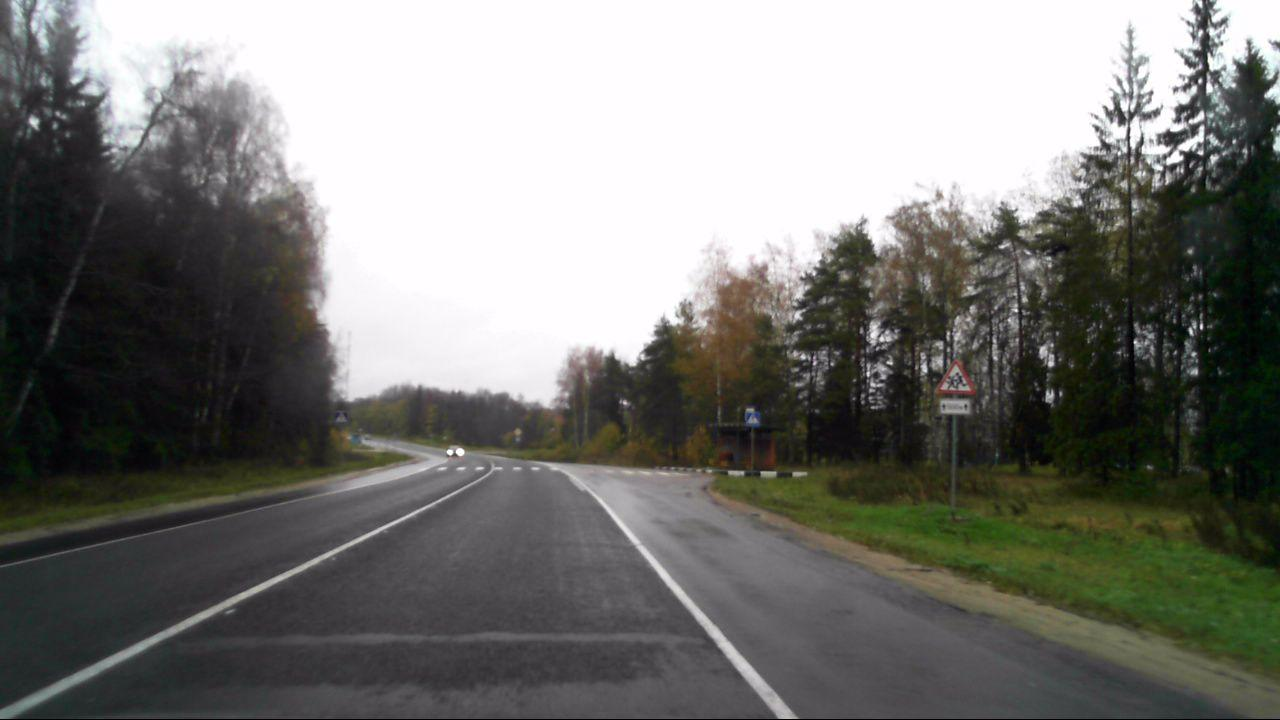road_sign: (933, 357, 978, 394)
